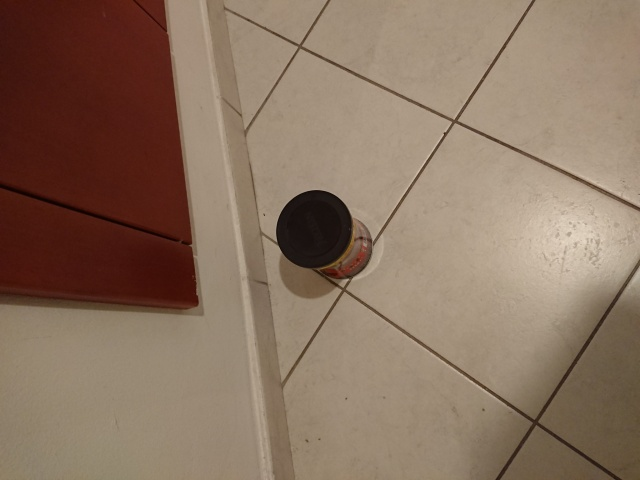Nescafe Classic 225g: (273, 187, 376, 282)
